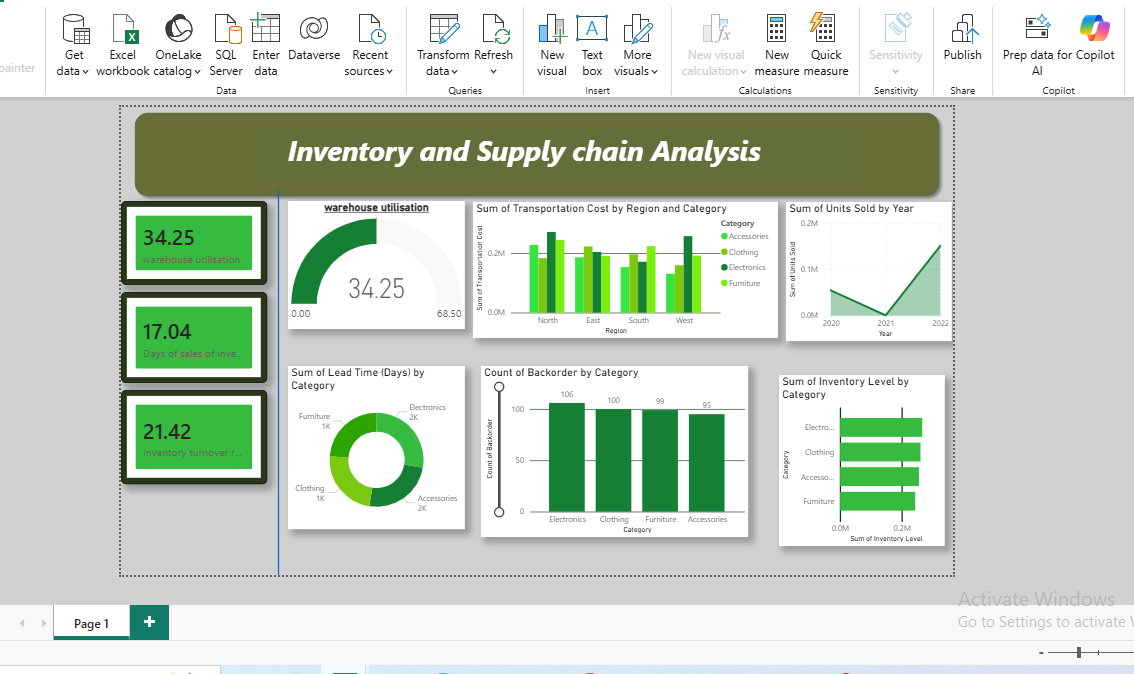

The page's visual inventory and layout, read from the dashboard file:
{"tool":"powerbi","page":{"name":"Page 1","canvas":[1280,720],"ordinal":0},"visuals":[{"type":"shape","box":[12.3,0,1255.4,146.2],"z":0},{"type":"textbox","box":[204.6,32.3,932.3,80],"z":1000},{"type":"shape","box":[204.6,127.7,75.4,592.3],"z":2000},{"type":"cardVisual","fields":{"Data":["Inventory_SupplyChain_Dataset.warehouse utilisation"]},"box":[0,140,243.1,167.7],"z":2002},{"type":"cardVisual","fields":{"Data":["Inventory_SupplyChain_Dataset.Days of sales of inventory"]},"box":[0,320,243.1,181.5],"z":2003},{"type":"cardVisual","fields":{"Data":["Inventory_SupplyChain_Dataset.Inventory turnover ratio"]},"box":[0,518.5,243.1,184.6],"z":2004},{"type":"gauge","fields":{"Y":["Inventory_SupplyChain_Dataset.warehouse utilisation"]},"box":[256.9,144.6,272.3,196.9],"z":2007},{"type":"clusteredColumnChart","fields":{"Y":["Sum(Inventory_SupplyChain_Dataset.Transportation Cost)"],"Category":["Inventory_SupplyChain_Dataset.Region"],"Series":["Inventory_SupplyChain_Dataset.Category"]},"box":[541.5,146.2,469.2,209.2],"z":2008},{"type":"lineChart","fields":{"Y":["Sum(Inventory_SupplyChain_Dataset.Units Sold)"],"Category":["Inventory_SupplyChain_Dataset.Date.Variation.Date Hierarchy.Year"]},"box":[1023.1,146.2,255.4,213.8],"z":2009},{"type":"donutChart","fields":{"Y":["Sum(Inventory_SupplyChain_Dataset.Lead Time (Days))"],"Category":["Inventory_SupplyChain_Dataset.Category"]},"box":[256.9,398.5,272.3,250.8],"z":2010},{"type":"columnChart","fields":{"Y":["CountNonNull(Inventory_SupplyChain_Dataset.Backorder)"],"Category":["Inventory_SupplyChain_Dataset.Category"]},"box":[553.8,398.5,410.8,263.1],"z":2011},{"type":"clusteredBarChart","fields":{"Category":["Inventory_SupplyChain_Dataset.Category"],"Y":["Sum(Inventory_SupplyChain_Dataset.Inventory Level)"]},"box":[1012.3,412.3,255.4,263.1],"z":2012}]}

Visuals, with their boxes on the page's 1280x720 design canvas (x1, y1, x2, y2). These are canvas units, not pixel positions in the 1134x674 screenshot, which may show the page scaled, cropped or inside an application window:
shape: (x1=12, y1=0, x2=1268, y2=146)
textbox: (x1=205, y1=32, x2=1137, y2=112)
shape: (x1=205, y1=128, x2=280, y2=720)
cardVisual - Inventory_SupplyChain_Dataset.warehouse utilisation: (x1=0, y1=140, x2=243, y2=308)
cardVisual - Inventory_SupplyChain_Dataset.Days of sales of inventory: (x1=0, y1=320, x2=243, y2=502)
cardVisual - Inventory_SupplyChain_Dataset.Inventory turnover ratio: (x1=0, y1=518, x2=243, y2=703)
gauge - Inventory_SupplyChain_Dataset.warehouse utilisation: (x1=257, y1=145, x2=529, y2=342)
clusteredColumnChart - Sum(Inventory_SupplyChain_Dataset.Transportation Cost) x Inventory_SupplyChain_Dataset.Region: (x1=542, y1=146, x2=1011, y2=355)
lineChart - Sum(Inventory_SupplyChain_Dataset.Units Sold) x Inventory_SupplyChain_Dataset.Date.Variation.Date Hierarchy.Year: (x1=1023, y1=146, x2=1278, y2=360)
donutChart - Sum(Inventory_SupplyChain_Dataset.Lead Time (Days)) x Inventory_SupplyChain_Dataset.Category: (x1=257, y1=398, x2=529, y2=649)
columnChart - CountNonNull(Inventory_SupplyChain_Dataset.Backorder) x Inventory_SupplyChain_Dataset.Category: (x1=554, y1=398, x2=965, y2=662)
clusteredBarChart - Inventory_SupplyChain_Dataset.Category x Sum(Inventory_SupplyChain_Dataset.Inventory Level): (x1=1012, y1=412, x2=1268, y2=675)
